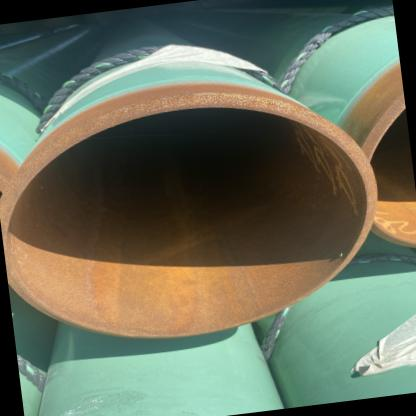clean: (204, 82, 276, 126)
